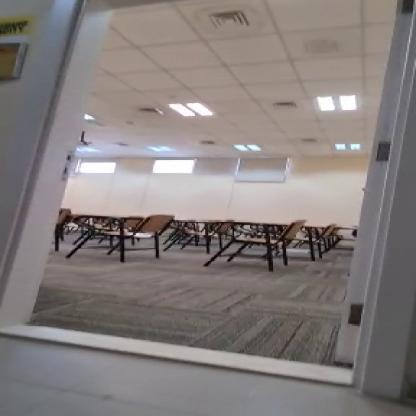open: (0, 0, 403, 391)
